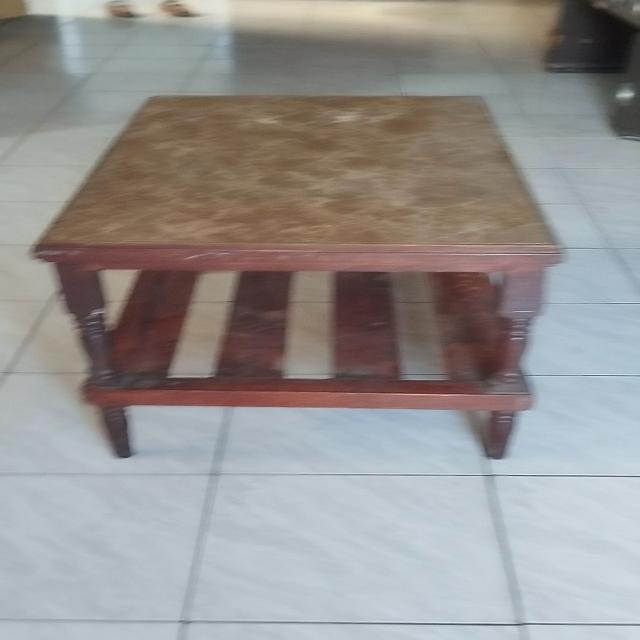table: (24, 88, 572, 466)
